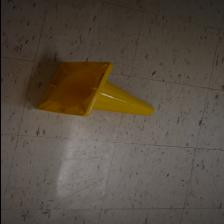cone: (36, 62, 154, 116)
